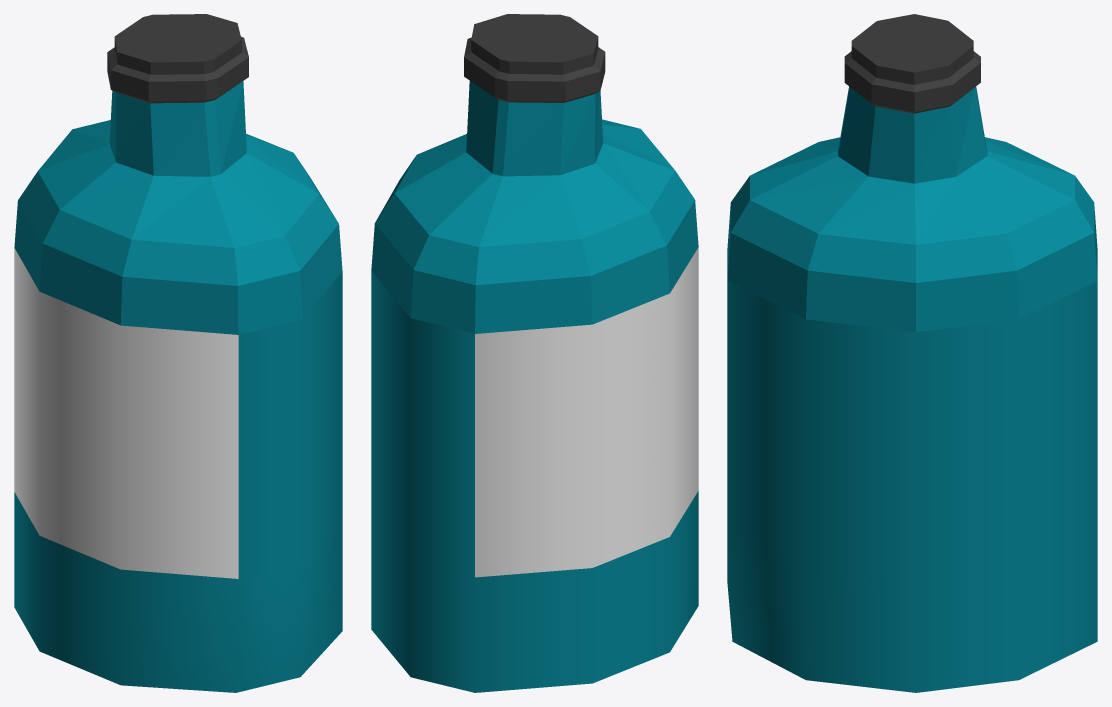
Rendered from Botella2.fbx.
3 renders of one model, left to right at view 1: azimuth 30°, elevation 25°; view 2: azimuth 150°, elevation 25°; view 3: azimuth 270°, elevation 25°, orthographic.
Visible parts, largest first — view 1: Botella02_LOD00; view 2: Botella02_LOD00; view 3: Botella02_LOD00.
Boxes of the visible parts, x1,y1,x2,y2 form: Botella02_LOD00: (14,14,342,692); Botella02_LOD00: (371,14,698,692); Botella02_LOD00: (727,14,1097,692).
Size of what is drawn, in the model's own units: 12.38 by 25.07 by 14.44.
